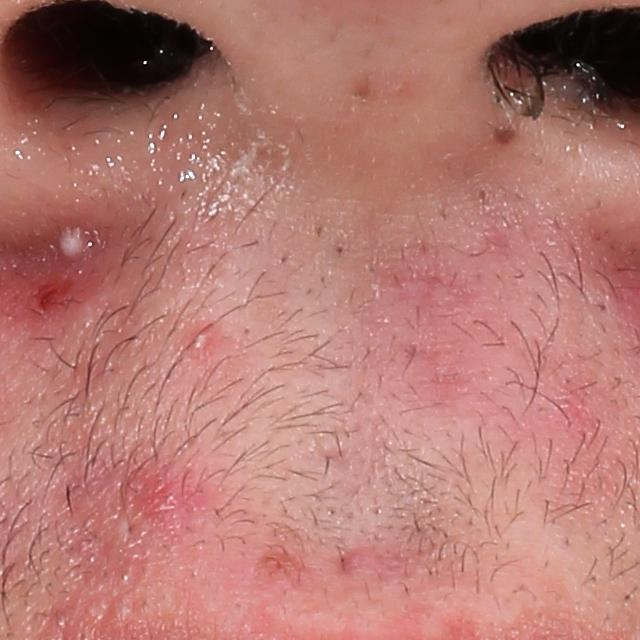comedo: (474, 184, 492, 204)
nevus: (491, 118, 518, 145)
papule: (137, 468, 197, 518), (339, 545, 369, 573)
pustule: (52, 222, 94, 264), (184, 324, 212, 355)
